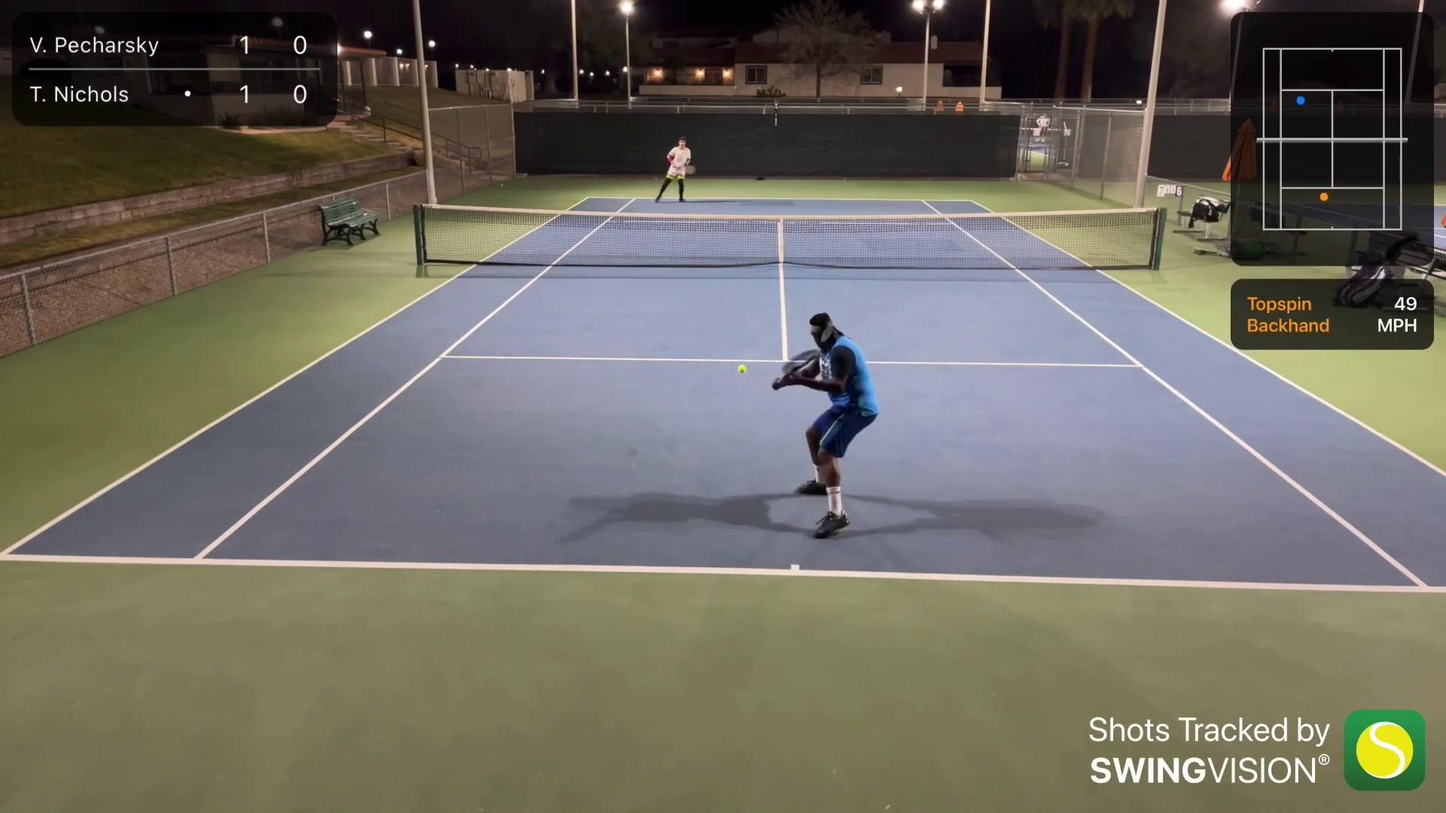ball: (733, 363, 753, 375)
